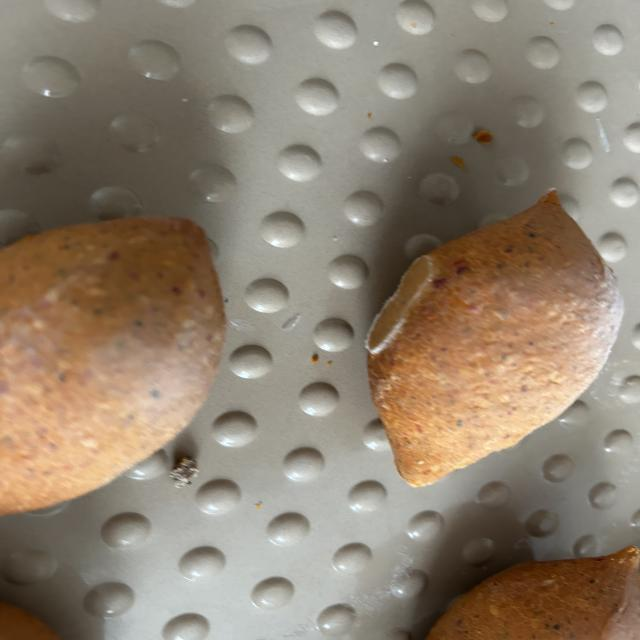kobi: (364, 188, 624, 488), (0, 213, 218, 518), (427, 535, 639, 640)
